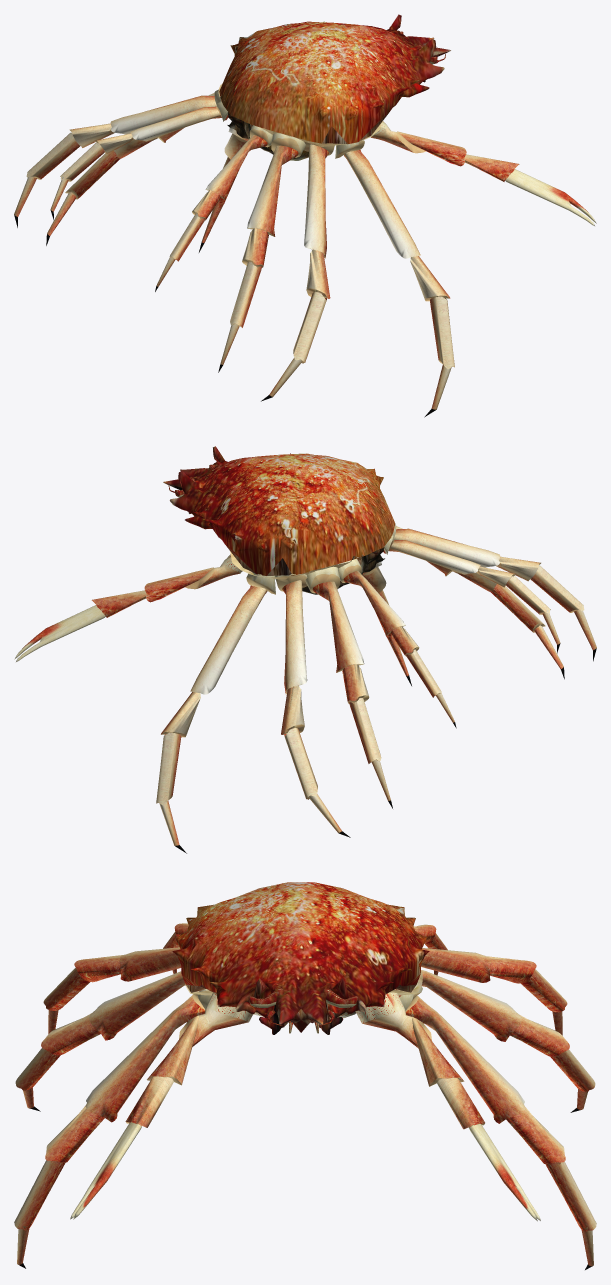
Rendered from crab.dae.
3 renders of one model, top to bottom at view 1: azimuth 30°, elevation 25°; view 2: azimuth 150°, elevation 25°; view 3: azimuth 270°, elevation 25°, orthographic. The views are drawn at different scales.
Parts seen in each view (by area): view 1: CRBmain, crable04 (×6), crable03 (×4), crable02 (×3), crable05 (×4), crable01 (×3); view 2: CRBmain, crable04 (×6), crable03 (×4), crable02 (×3), crable05 (×4), crable01 (×3); view 3: CRBmain (×2), crable02 (×6), crable01 (×9), crable03 (×6), crable04 (×6).
Part boxes in pixels (left/top/right/bottom): CRBmain: left=219, top=14, right=450, bottom=143; crable04 (×6): left=26, top=95, right=298, bottom=327; crable03 (×4): left=65, top=144, right=330, bottom=362; crable02 (×3): left=344, top=150, right=454, bottom=369; crable05 (×4): left=60, top=106, right=267, bottom=261; crable01 (×3): left=397, top=131, right=596, bottom=225; CRBmain: left=163, top=446, right=395, bottom=575; crable04 (×6): left=312, top=528, right=584, bottom=763; crable03 (×4): left=281, top=580, right=545, bottom=799; crable02 (×3): left=156, top=585, right=267, bottom=805; crable05 (×4): left=343, top=540, right=550, bottom=697; crable01 (×3): left=14, top=567, right=213, bottom=662; CRBmain (×2): left=172, top=882, right=429, bottom=1034; crable02 (×6): left=14, top=995, right=596, bottom=1231; crable01 (×9): left=70, top=989, right=540, bottom=1221; crable03 (×6): left=15, top=970, right=595, bottom=1091; crable04 (×6): left=43, top=947, right=567, bottom=1012.
Size of the model in its own units: 9.84 by 10.03 by 7.21.
14 materials, 13 textured.
